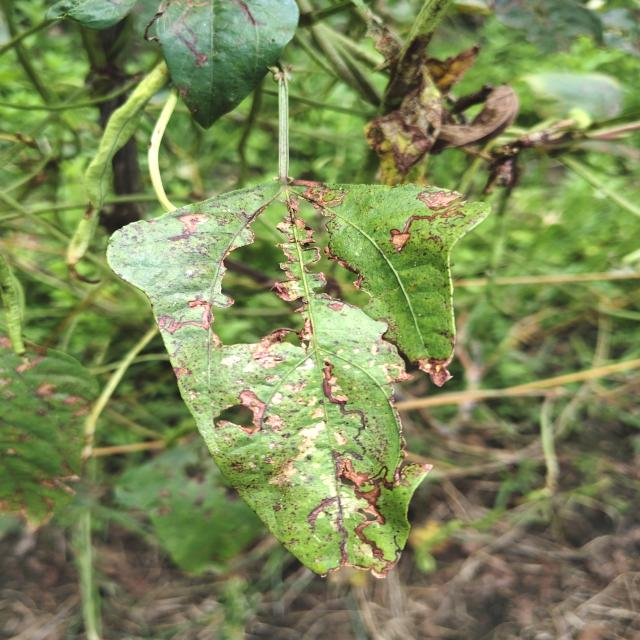leaf-moderate: (107, 178, 489, 577), (365, 15, 479, 185), (428, 85, 546, 187)
sitaw-aphid-low: (0, 255, 99, 529), (144, 0, 299, 128)
sitaw-aphid-moderate: (405, 0, 453, 46)
sitaw-healthy: (66, 203, 101, 285)
